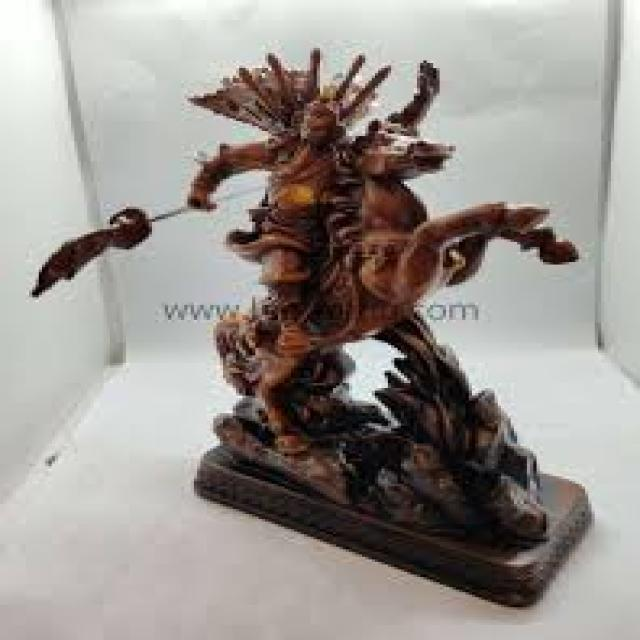Guan Yu: (184, 50, 372, 274)
